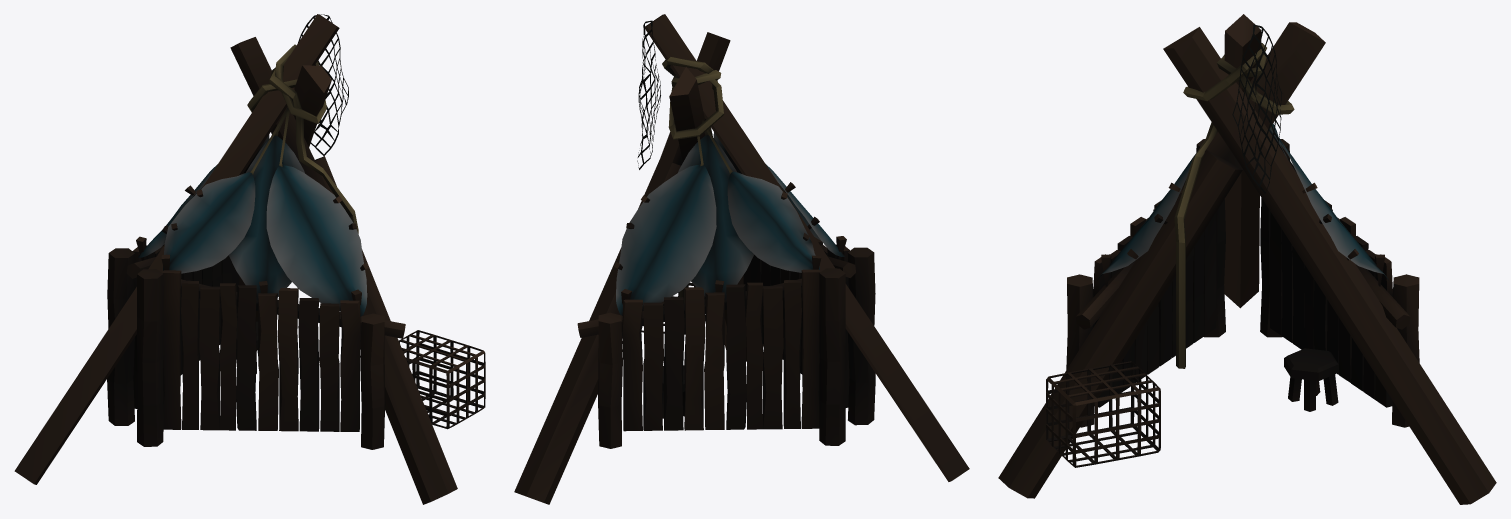
File: FishingHut.fbx
3 views of the same model, side by side, from view 1: azimuth 30°, elevation 25°; view 2: azimuth 150°, elevation 25°; view 3: azimuth 270°, elevation 25° (orthographic). The views are drawn at different scales.
Parts seen in each view (by area): view 1: FishingHut; view 2: FishingHut; view 3: FishingHut.
Boxes of the visible parts, left/top/right/bottom form: FishingHut: left=14, top=14, right=485, bottom=504; FishingHut: left=514, top=14, right=969, bottom=504; FishingHut: left=998, top=14, right=1496, bottom=504.
Bounding box in the file's own units: 154 × 157 × 150.
